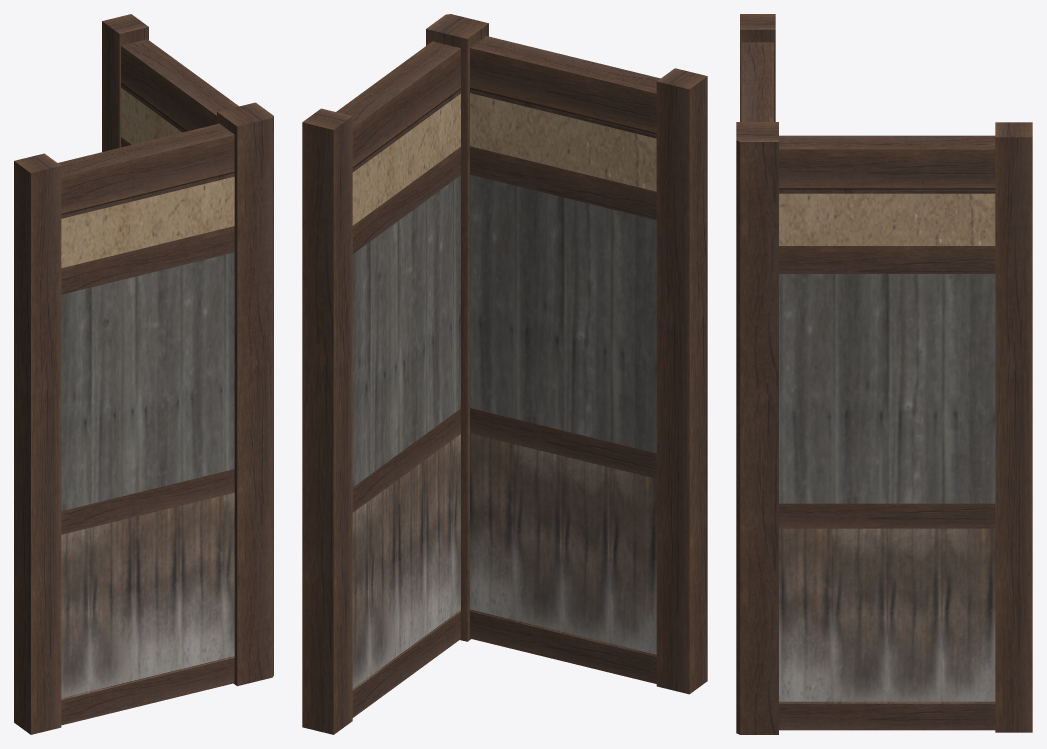
Rendered from fence10f_corner2.fbx.
3 views of the same model, side by side, from view 1: azimuth 30°, elevation 25°; view 2: azimuth 150°, elevation 25°; view 3: azimuth 270°, elevation 25° (orthographic). The views are drawn at different scales.
Parts seen in each view (by area): view 1: fence10f_corner2; view 2: fence10f_corner2; view 3: fence10f_corner2.
Part boxes in pixels (bbox=[...]): fence10f_corner2: bbox=[14, 14, 273, 734]; fence10f_corner2: bbox=[302, 14, 707, 734]; fence10f_corner2: bbox=[736, 14, 1032, 734].
Bounding box in the file's own units: 157 × 346 × 156.
